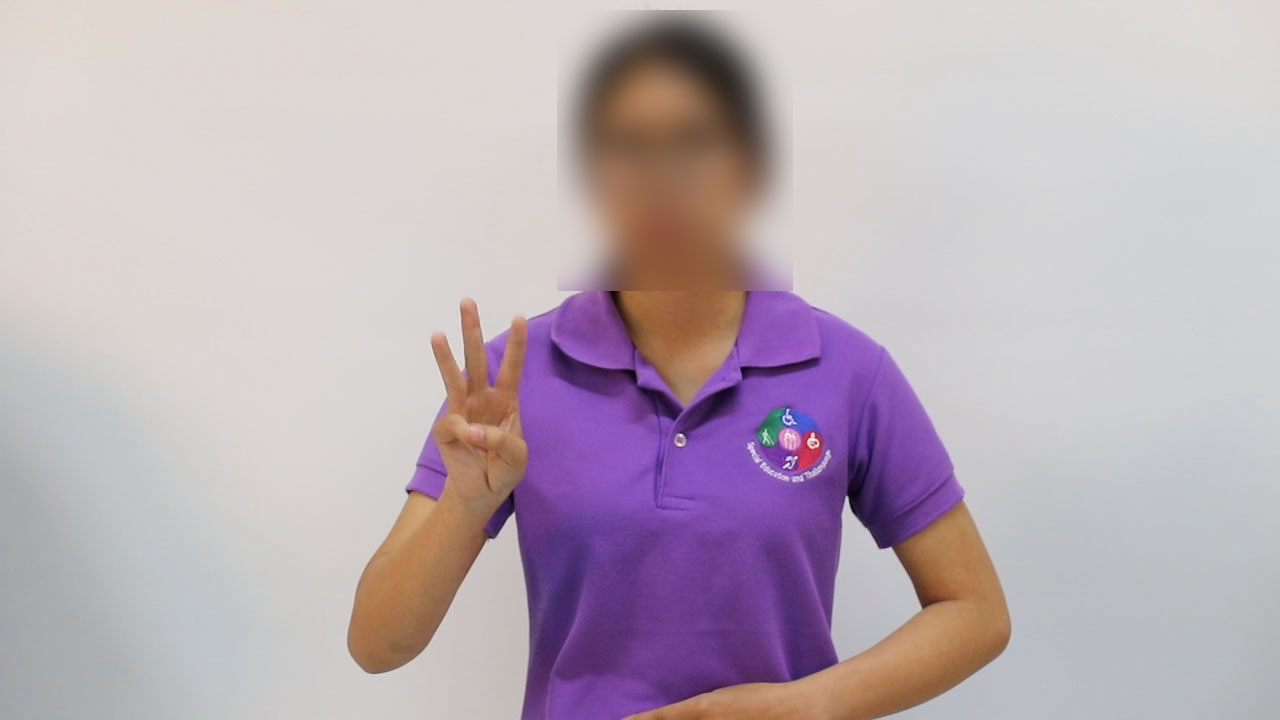wor: (417, 291, 536, 523)
